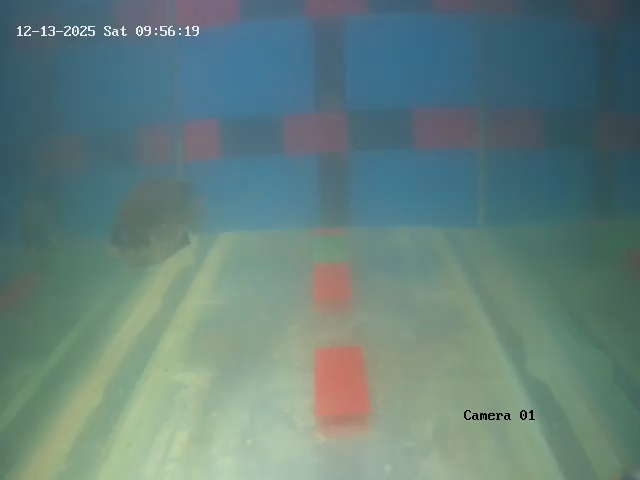fish: (91, 169, 210, 275)
